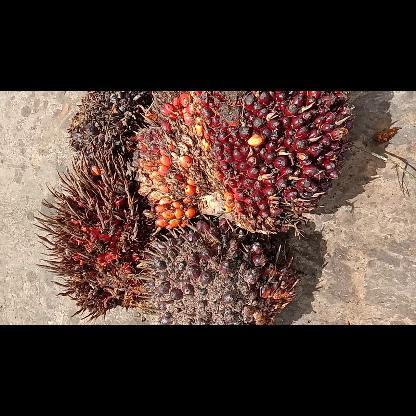Kurang masak: (140, 220, 300, 324)
TBS abnormal: (66, 91, 150, 164)
TBS masak: (134, 90, 354, 233)
Terlalu masak: (38, 146, 148, 322)
